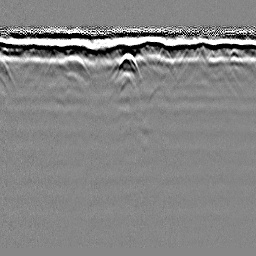cavity: (115, 52, 141, 76)
